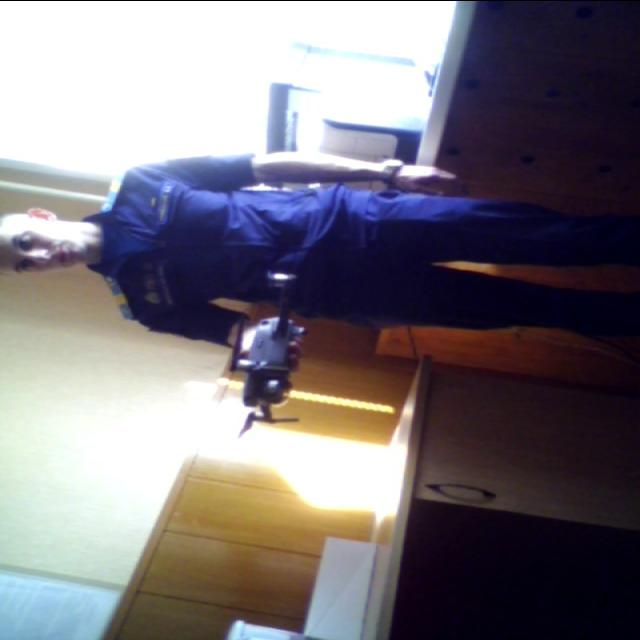drone: (208, 259, 326, 438)
